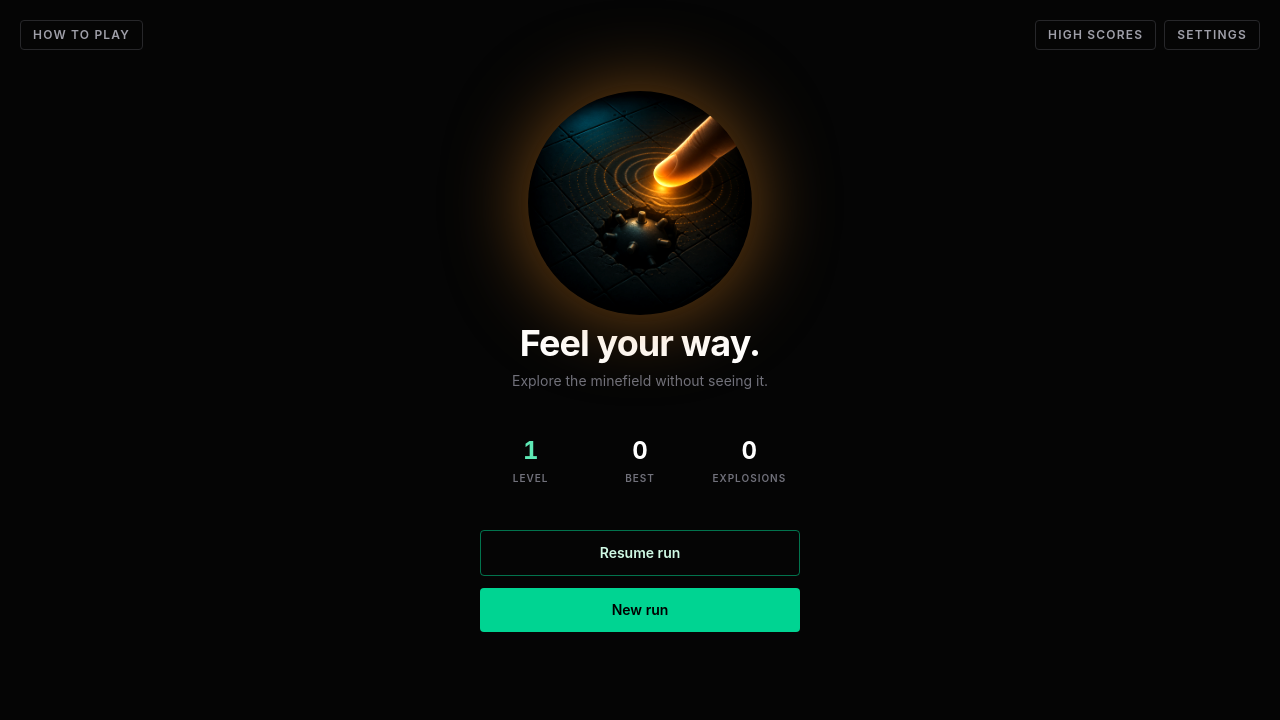
Test: HomeScreen › shows confirm gate when new run pressed with active run
The image size is (1280, 720).
Click the button "New run" at (640, 610), box [480,588,800,632]
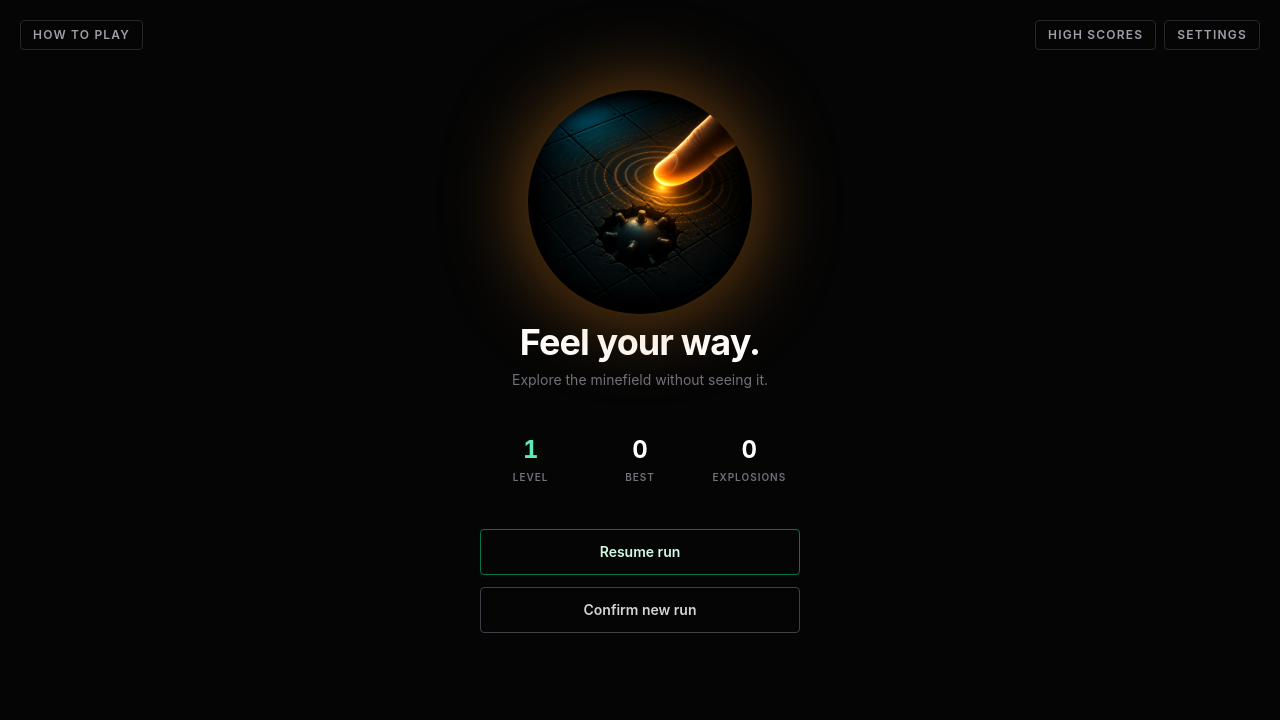
Result: the button "Confirm new run" is shown at [480,586,800,632]
